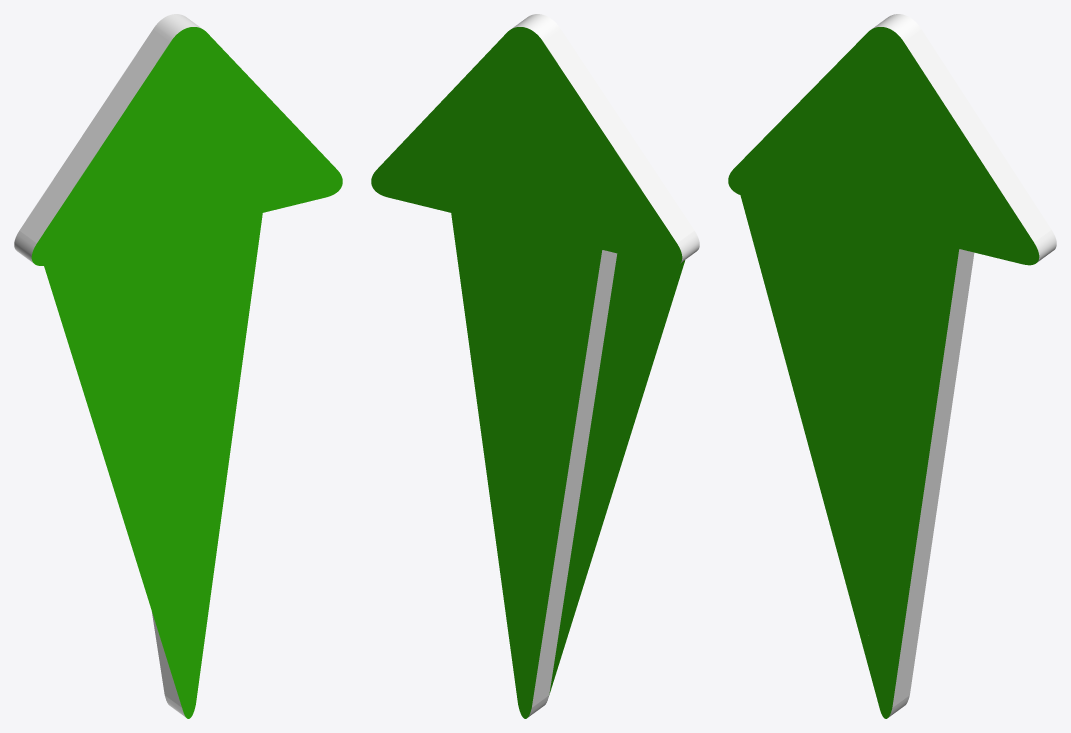
Rendered from Ok_Yesil.fbx.
3 views of the same model, side by side, from view 1: azimuth 30°, elevation 25°; view 2: azimuth 150°, elevation 25°; view 3: azimuth 330°, elevation 25° (orthographic).
Visible parts, largest first — view 1: Extrude_1; view 2: Extrude_1; view 3: Extrude_1.
Part boxes in pixels (x1,y1,x2,y2): Extrude_1: [14, 14, 342, 718]; Extrude_1: [371, 14, 699, 718]; Extrude_1: [728, 14, 1056, 718].
Bounding box in the file's own units: 53.71 × 114 × 5.25.
